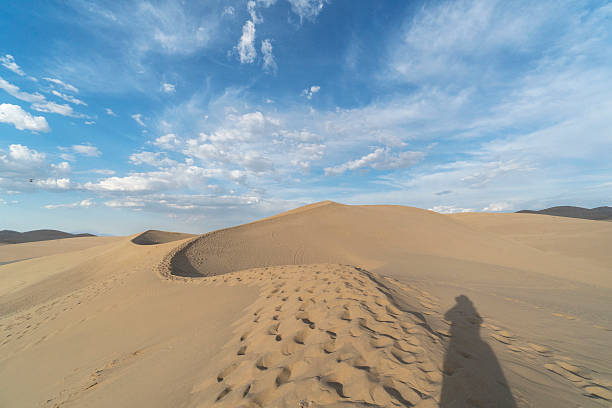human_footprint: (209, 265, 442, 406)
